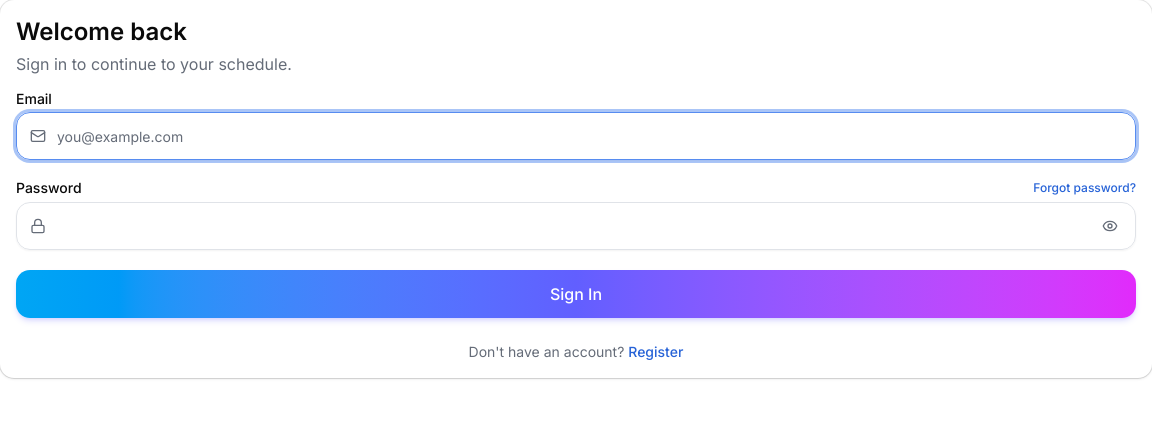
it: LoginForm › shows field-level validation errors instead of submitting when empty
What coordinates should you click on to do the following:
click the button "Sign In"
I would click on:
 (576, 294)
Its box is [16,270,1136,318].
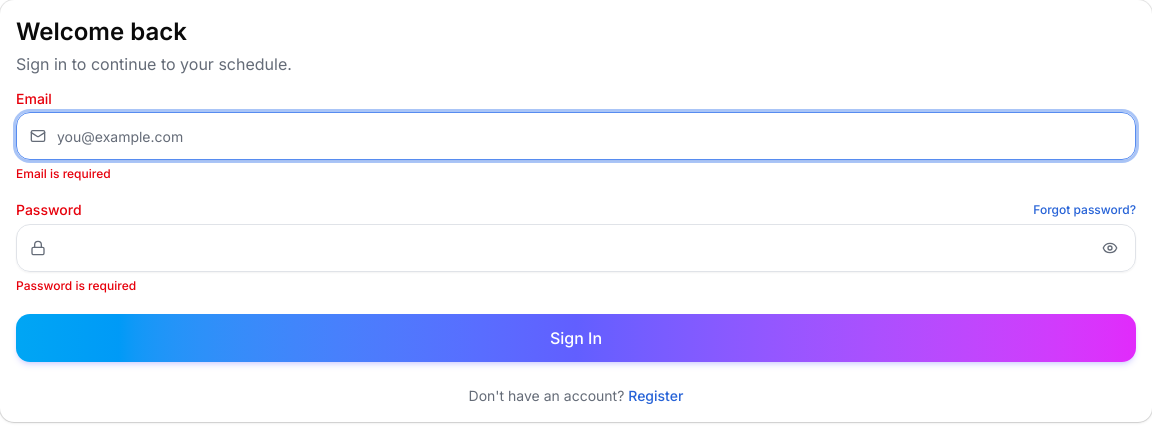
Check: the text "Email is required" is shown, box [16,166,111,181]
Check: the text "Password is required" is shown, box [16,278,136,293]
